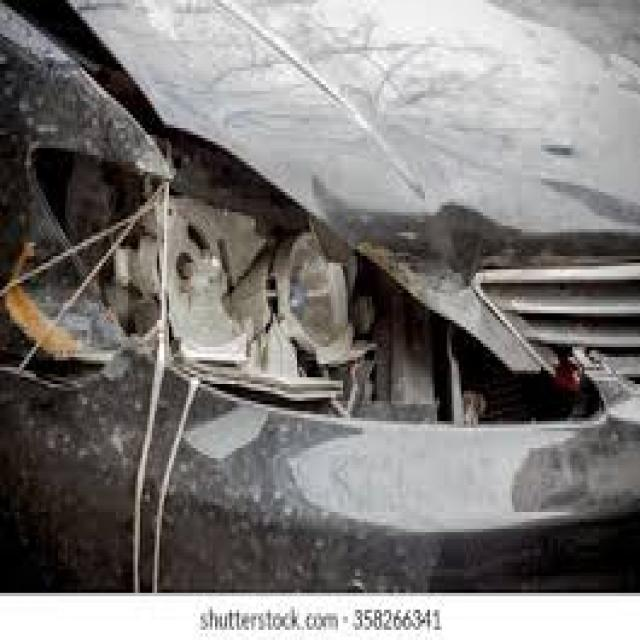damaged-head-light: (38, 148, 534, 424)
